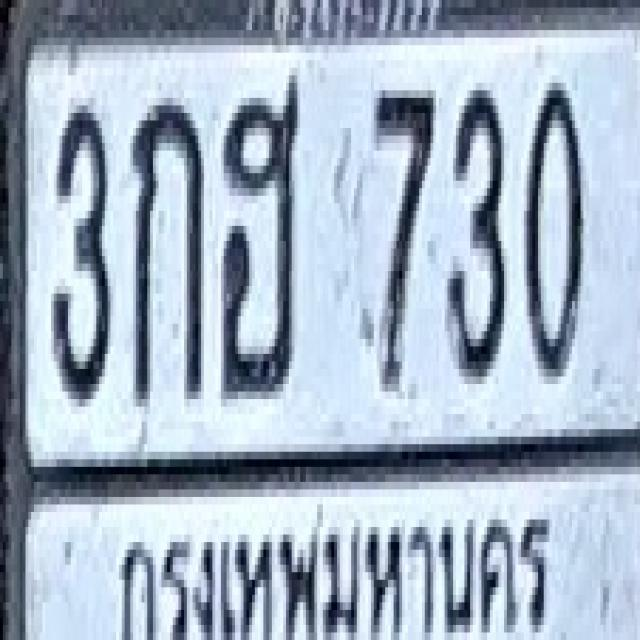-: (219, 72, 299, 396), (132, 90, 202, 399)
0: (524, 71, 583, 372)
3: (51, 98, 110, 399), (446, 83, 506, 376)
7: (372, 83, 435, 384)
BKK: (107, 489, 558, 640)
